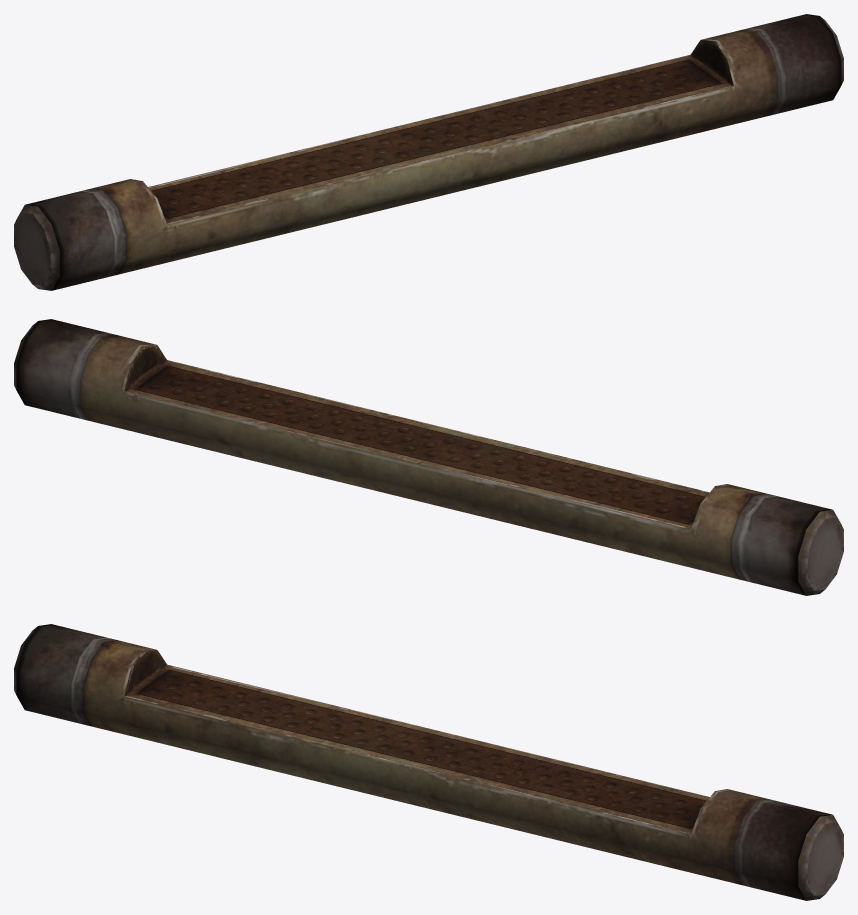
File: 02_06_elevator_shaft_ladder_broken_rung.dae
3 views of the same model, one above another, from view 1: azimuth 30°, elevation 25°; view 2: azimuth 150°, elevation 25°; view 3: azimuth 330°, elevation 25° (orthographic).
Visible parts, largest first — view 1: ladder_long_pplant; view 2: ladder_long_pplant; view 3: ladder_long_pplant.
Part boxes in pixels (x1,y1,x2,y2): ladder_long_pplant: (14,14,843,290); ladder_long_pplant: (14,319,843,595); ladder_long_pplant: (14,624,843,900).
Bounding box in the file's own units: 0.6685 × 0.0663 × 0.0633.
